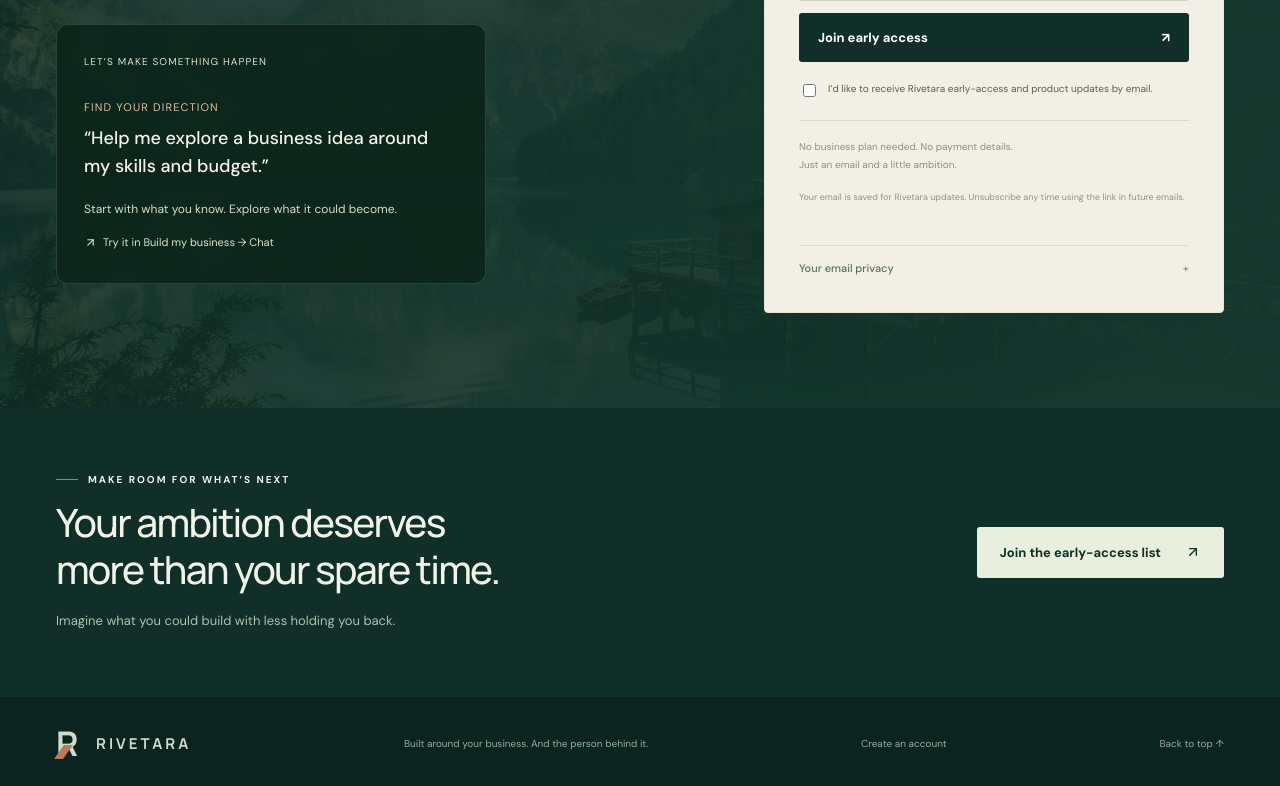
Scenario: existing account signup still checks availability and can return to the landing page
The image size is (1280, 786).
(page scrolled)
Click the button "Create an account": click(904, 743) x1=861 y1=737 x2=947 y2=750
(page scrolled)
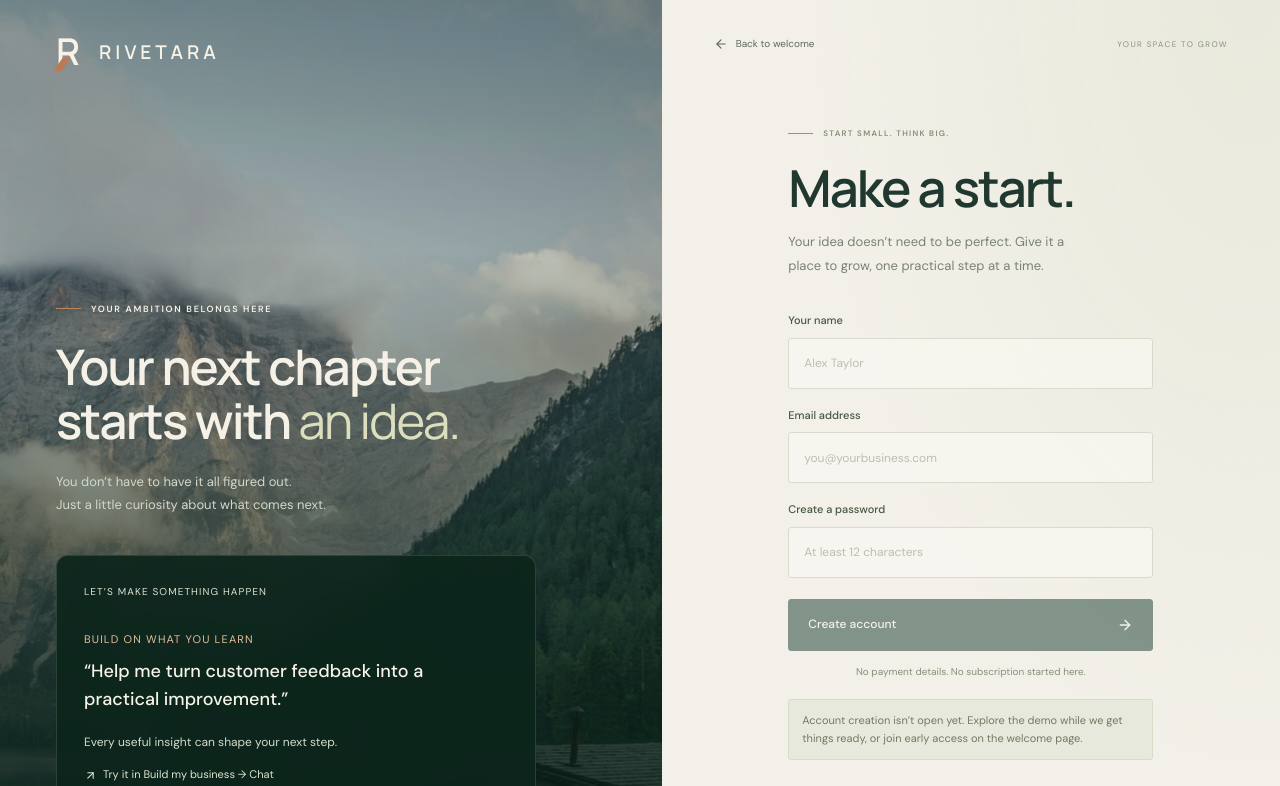
Now the text "Account creation isn’t open yet" is shown, box x1=802 y1=713 x2=1123 y2=746
Click the button "Back to welcome": click(764, 44) x1=714 y1=36 x2=814 y2=52
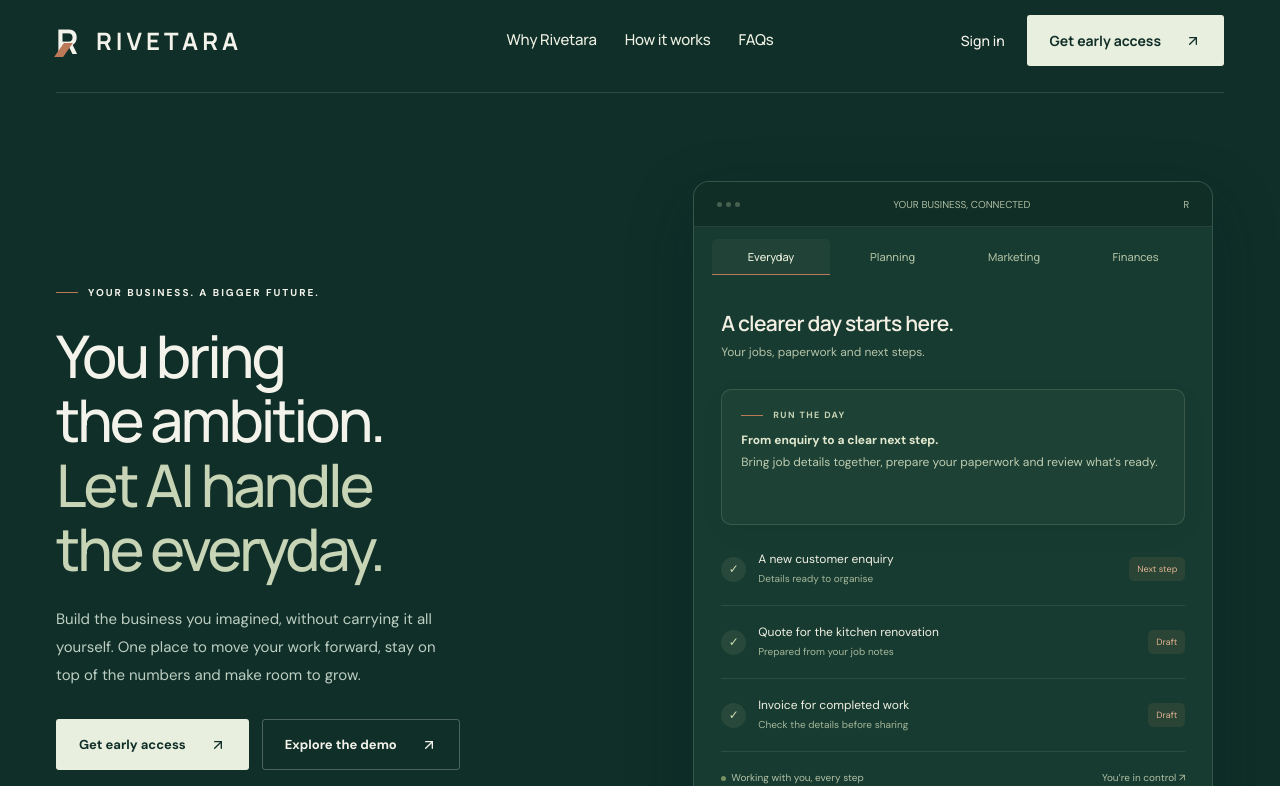
Now the heading that starts with "You bring" is shown, box x1=56 y1=315 x2=284 y2=396
